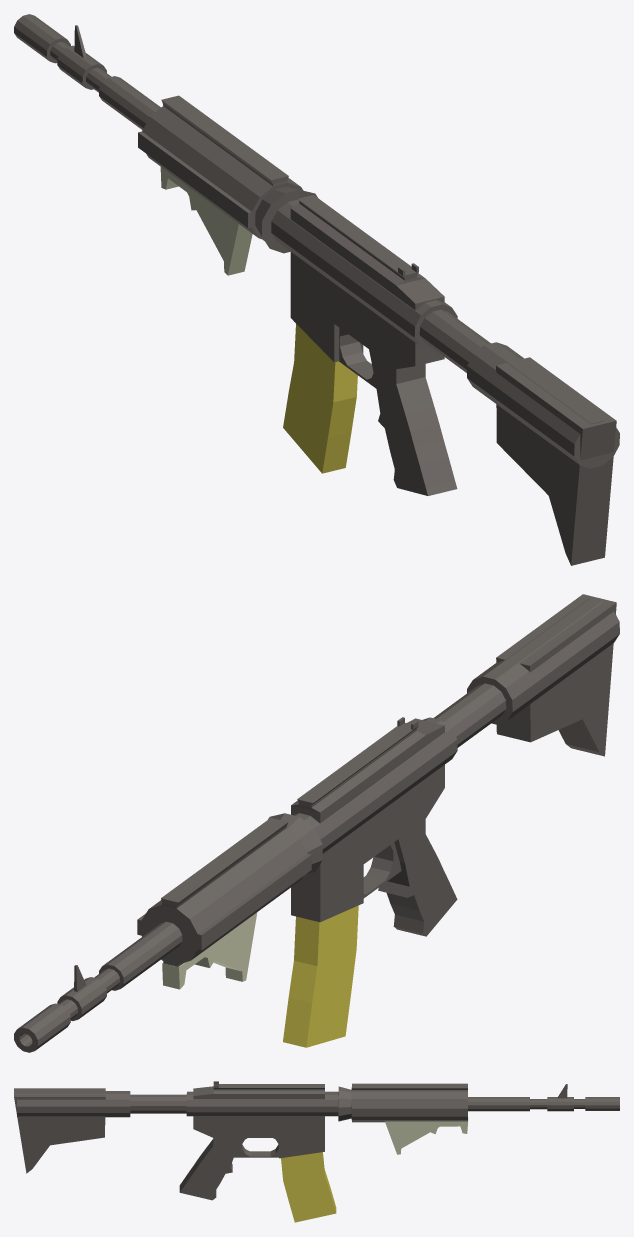
The model's file is M4 Model Draft.glb.
3 renders of one model, top to bottom at view 1: azimuth 30°, elevation 25°; view 2: azimuth 150°, elevation 25°; view 3: azimuth 270°, elevation 25°, orthographic. The views are drawn at different scales.
Parts seen in each view (by area): view 1: Barrel, Body, Stock, Buffer Tube, Magazine, Foregrip; view 2: Barrel, Body, Stock, Buffer Tube, Magazine, Foregrip; view 3: Barrel, Body, Buffer Tube, Stock, Magazine, Foregrip.
Part boxes in pixels (bbox=[...]): Barrel: bbox=[14, 14, 457, 349]; Body: bbox=[290, 195, 457, 495]; Stock: bbox=[496, 357, 616, 565]; Buffer Tube: bbox=[419, 309, 619, 468]; Magazine: bbox=[283, 324, 357, 473]; Foregrip: bbox=[160, 167, 252, 275]; Barrel: bbox=[14, 717, 457, 1052]; Body: bbox=[291, 717, 457, 936]; Stock: bbox=[496, 594, 616, 756]; Buffer Tube: bbox=[433, 598, 619, 747]; Magazine: bbox=[283, 905, 358, 1047]; Foregrip: bbox=[162, 912, 257, 989]; Barrel: bbox=[186, 1083, 619, 1122]; Body: bbox=[179, 1081, 324, 1200]; Buffer Tube: bbox=[17, 1091, 186, 1117]; Stock: bbox=[14, 1088, 105, 1173]; Magazine: bbox=[281, 1152, 336, 1222]; Foregrip: bbox=[385, 1118, 468, 1154].
Size of the model in its own units: 0.8 by 3.07 by 12.36.
